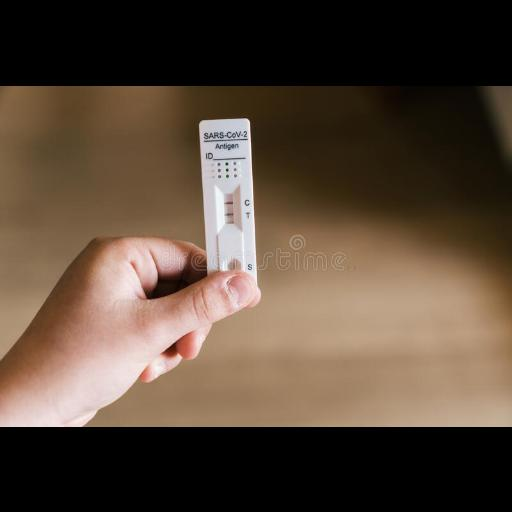Pos: (199, 117, 258, 291)
